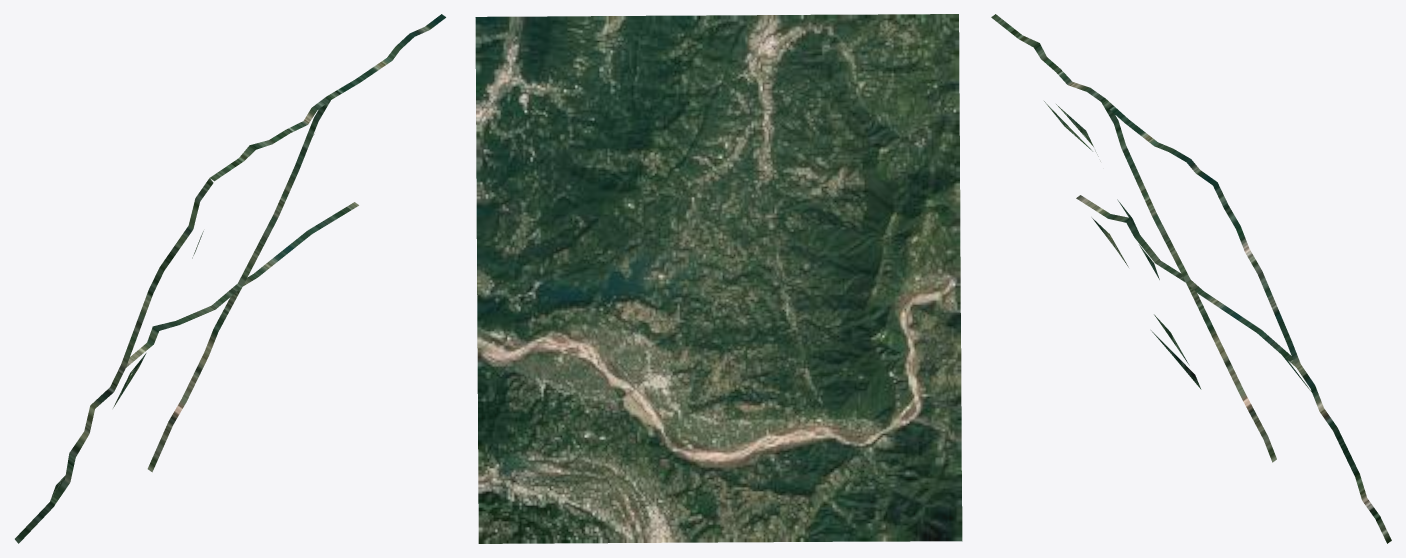
3 renders of one model, left to right at view 1: azimuth 30°, elevation 25°; view 2: azimuth 150°, elevation 25°; view 3: azimuth 270°, elevation 25°, orthographic. The views are drawn at different scales.
Size of the model in its own units: 20211 by 18155 by 16093.
1 material, 1 textured.
